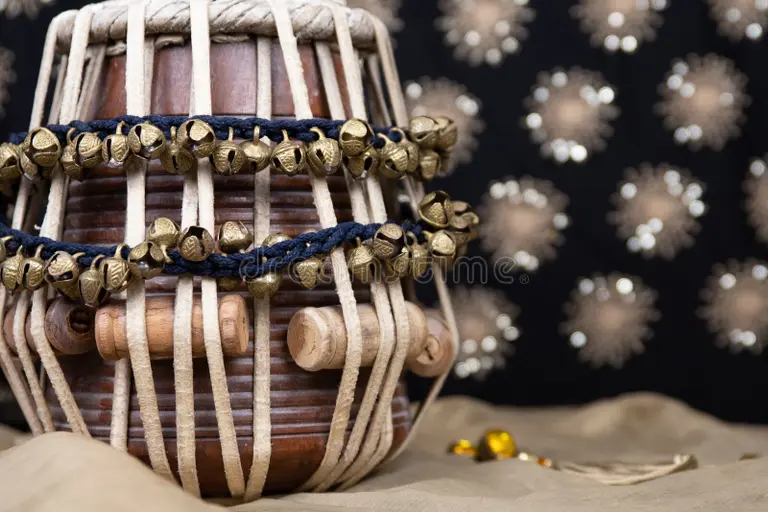tabla: (23, 5, 453, 479)
